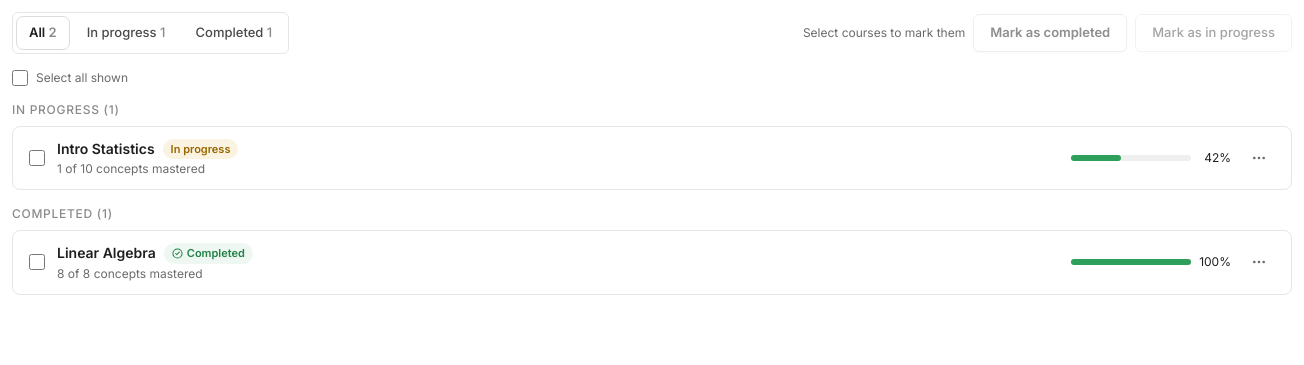
Test case: CoursesTable › marks only the selected in-progress courses as completed from the top button
Check: the button "Mark as completed" is disabled, box [973,14,1127,52]
Step 1. Click the checkbox named "Select Intro Statistics" → point(37, 158), box [29,150,45,166]
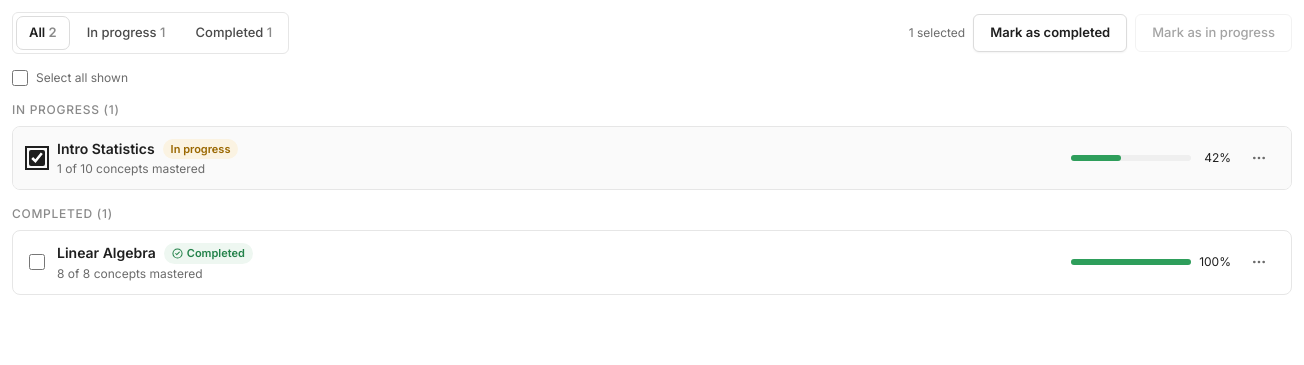
Step 2. Click the checkbox named "Select Linear Algebra" → point(37, 262), box [29,254,45,270]
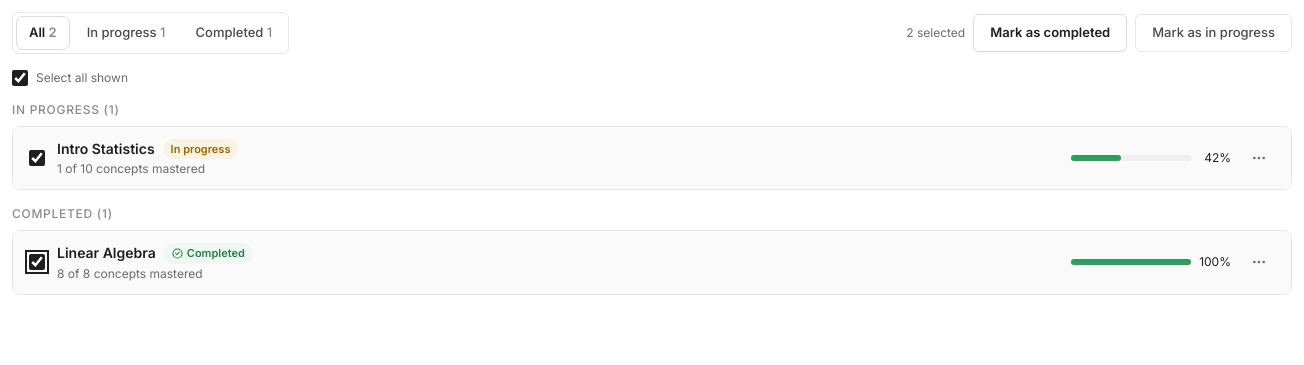
Step 3. Click the button "Mark as completed" → point(1050, 33), box [973,14,1127,52]
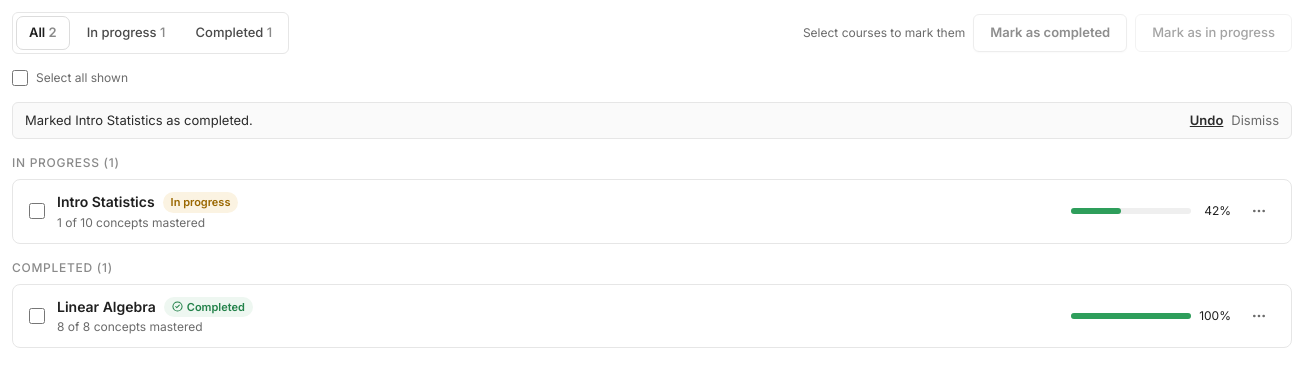
Check: the text "Marked Intro Statistics as completed." is shown, box [25,110,253,130]
